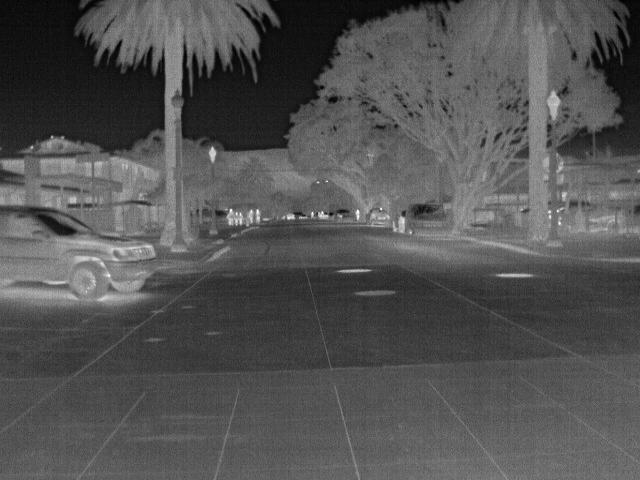car: (1, 202, 156, 304), (406, 202, 449, 236), (365, 207, 395, 223), (391, 209, 407, 232)
person: (224, 205, 237, 226), (244, 206, 256, 225), (253, 207, 262, 224), (237, 210, 245, 227), (355, 208, 363, 221)
